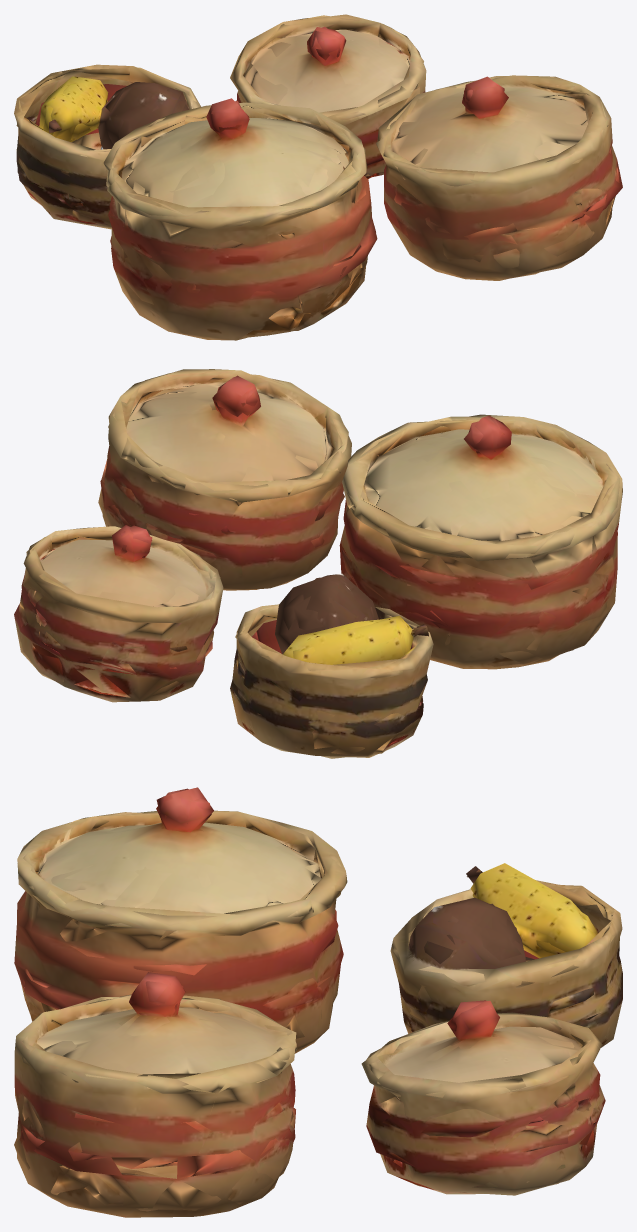
File: baskets.glb
3 renders of one model, top to bottom at view 1: azimuth 30°, elevation 25°; view 2: azimuth 150°, elevation 25°; view 3: azimuth 270°, elevation 25°, orthographic. The views are drawn at different scales.
Bounding box in the file's own units: 0.95 × 0.3957 × 0.8643.
Materials: 1 (1 with a texture image).
